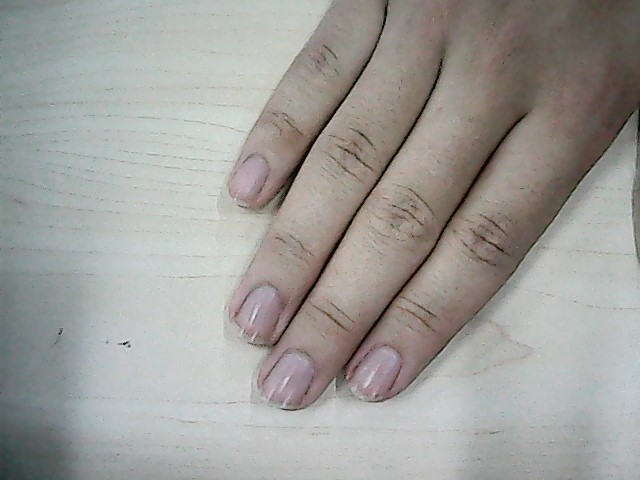nail: (264, 355, 304, 409), (353, 350, 392, 401), (243, 288, 277, 344), (238, 159, 261, 204)
